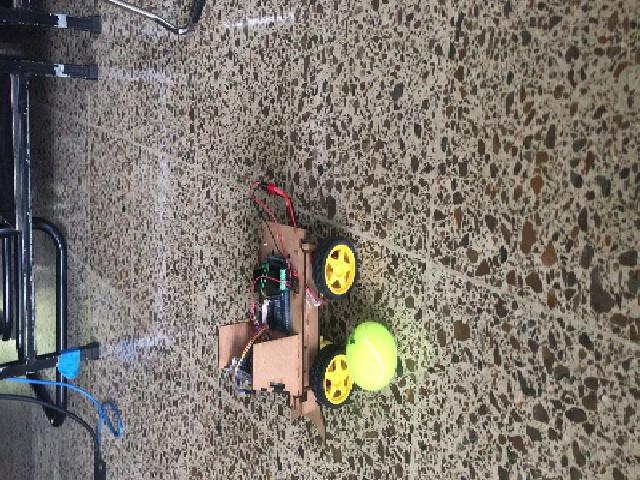Ball: (341, 320, 398, 392)
Robot: (219, 220, 357, 422)
